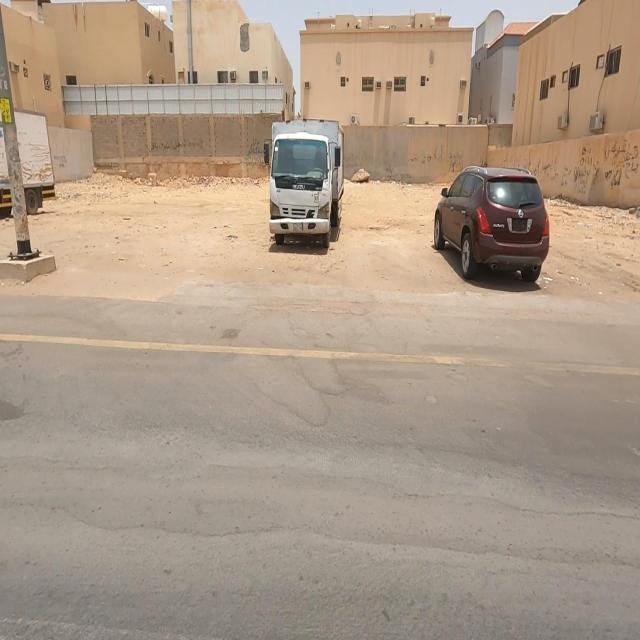Graffiti: (603, 139, 640, 197), (574, 146, 600, 195), (148, 139, 206, 154), (499, 151, 534, 168), (412, 146, 445, 164), (246, 136, 265, 165), (345, 151, 375, 169), (535, 161, 561, 181), (560, 165, 573, 190), (450, 154, 465, 174), (55, 154, 71, 170)
